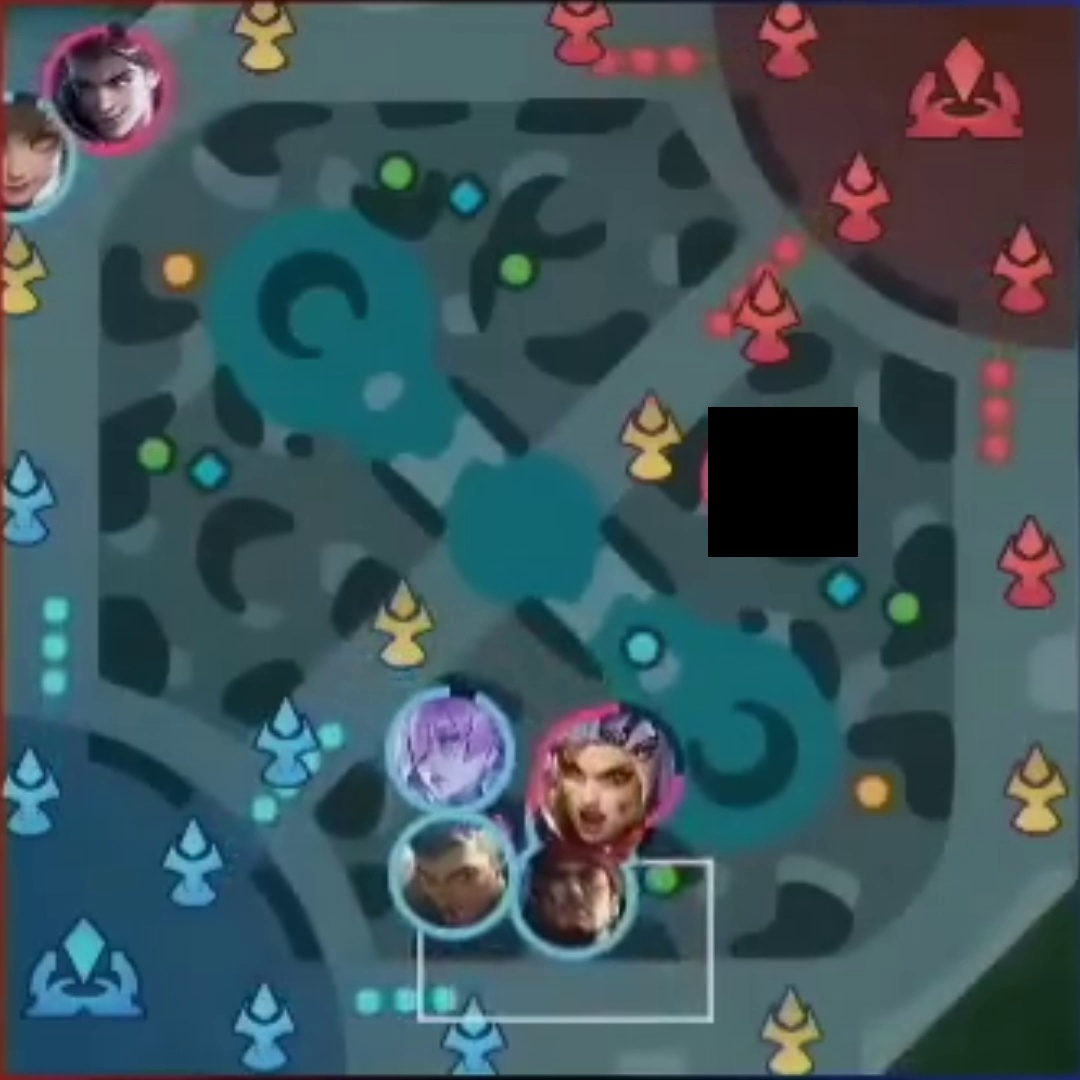Claude: (59, 37, 163, 139)
Fanny: (706, 423, 820, 536)
Fredrinn: (408, 820, 507, 927)
Lapu-Lapu: (525, 856, 621, 947)
Masha: (549, 749, 643, 846)
Novaria: (394, 685, 508, 802)
Wanwan: (1, 95, 63, 208)
